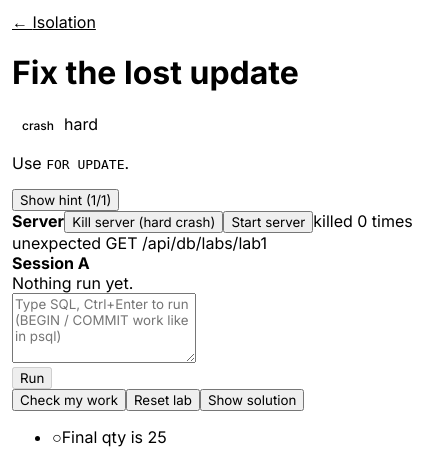
Test: TaskRunner › shows kill and start controls only for crash tasks
Click the button "Kill server (hard crash)" at (144, 222), box [64,211,223,233]
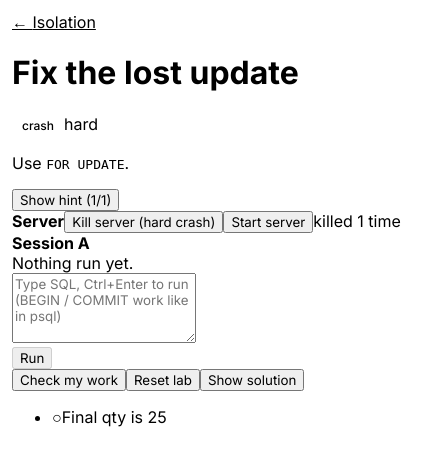
Expected: the text "killed 1 time" is shown, [313,211,401,231]
